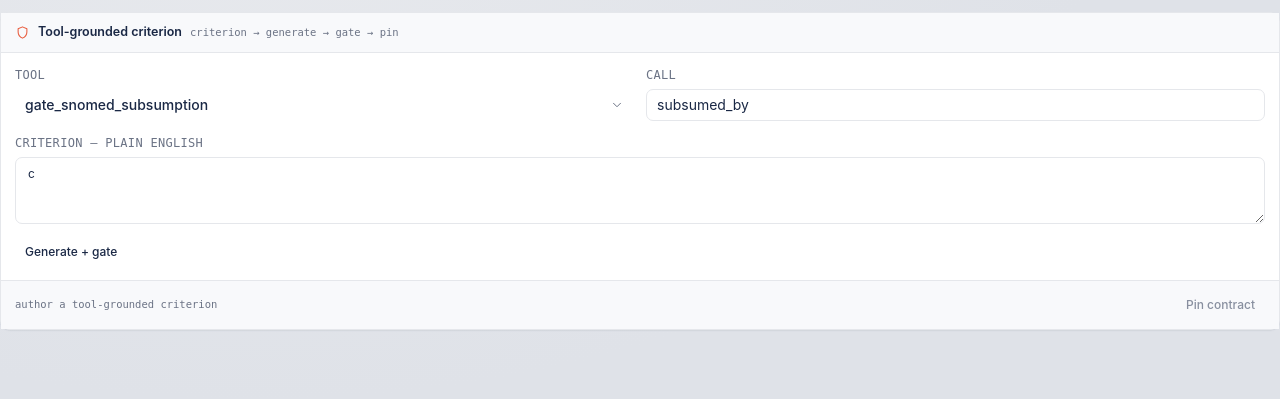
Test: CriterionJuteBuilder — A2 a passing gate enables Pin › runs the preview gate on Generate, shows 22/22 · 24/24, and ENABLES Pin
Click the button "Generate + gate": (71, 252) [15,238,127,266]
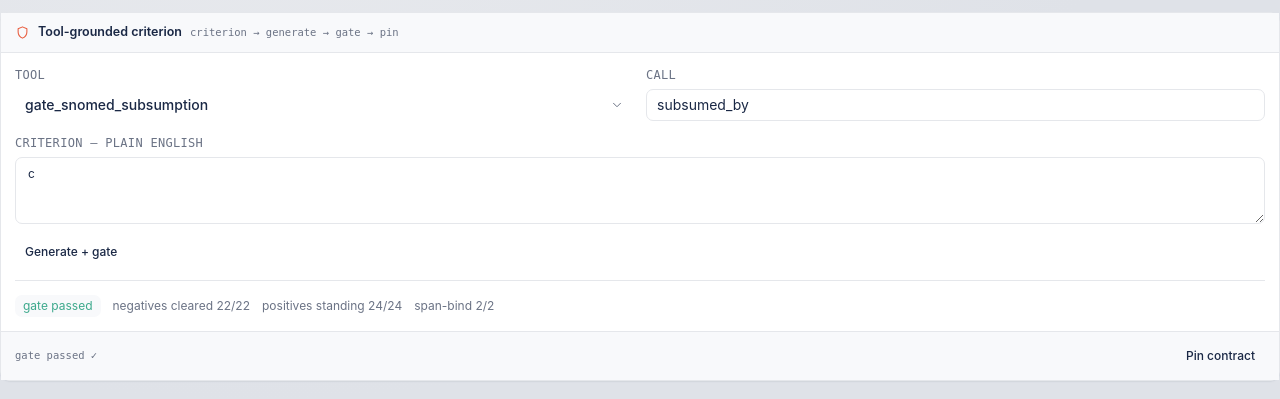
Expected: the text "negatives cleared 22/22" is shown, [112,297,250,315]
Expected: the text "positives standing 24/24" is shown, [262,297,402,315]
Expected: the button "Pin contract" is enabled, [1176,342,1265,370]
